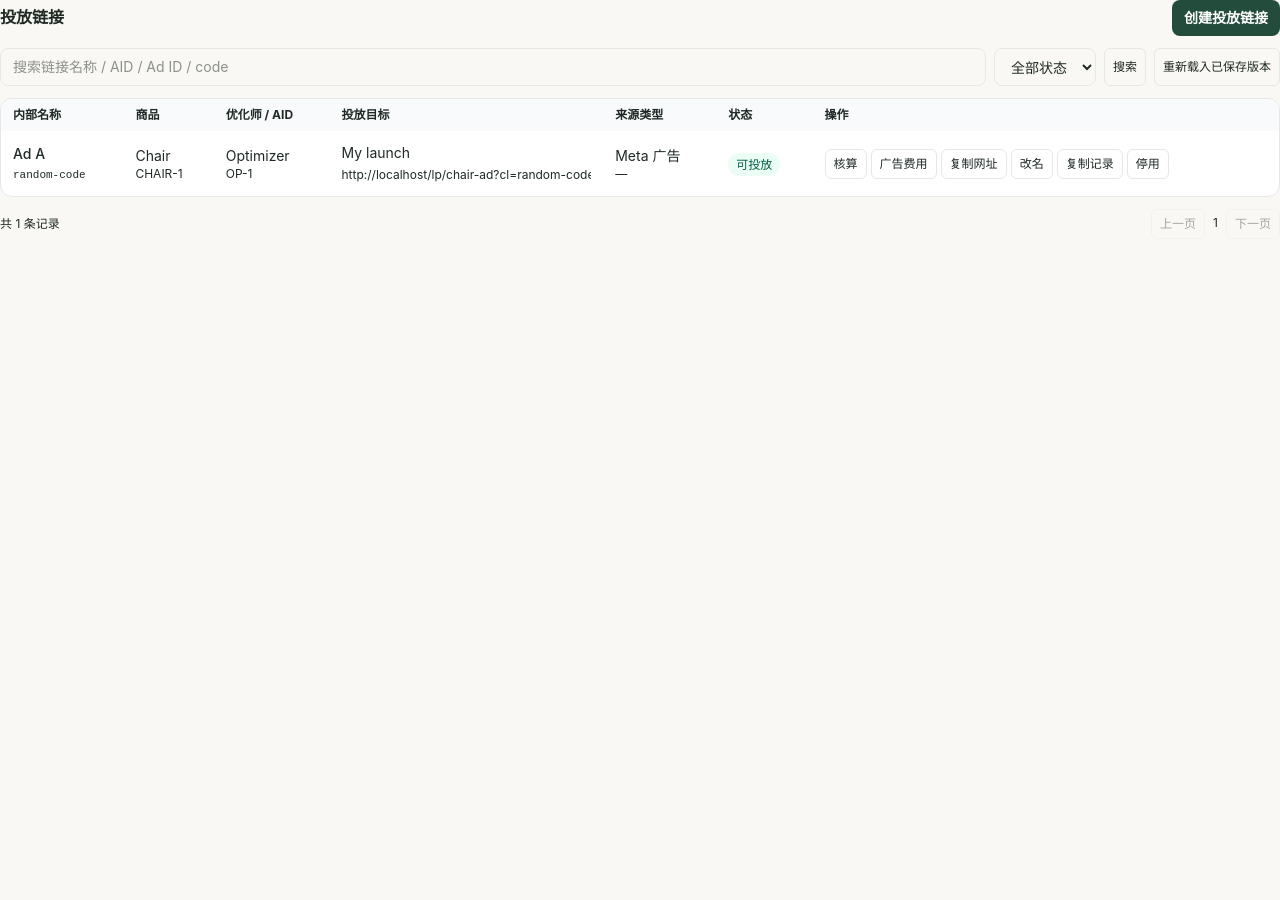
persisted campaign links › retains rename input on conflict and only permits name editing
Expected: the text "Ad A" is shown, [13, 145, 45, 162]
Click the button "改名": coordinates (1032, 164) [1011, 148, 1053, 178]
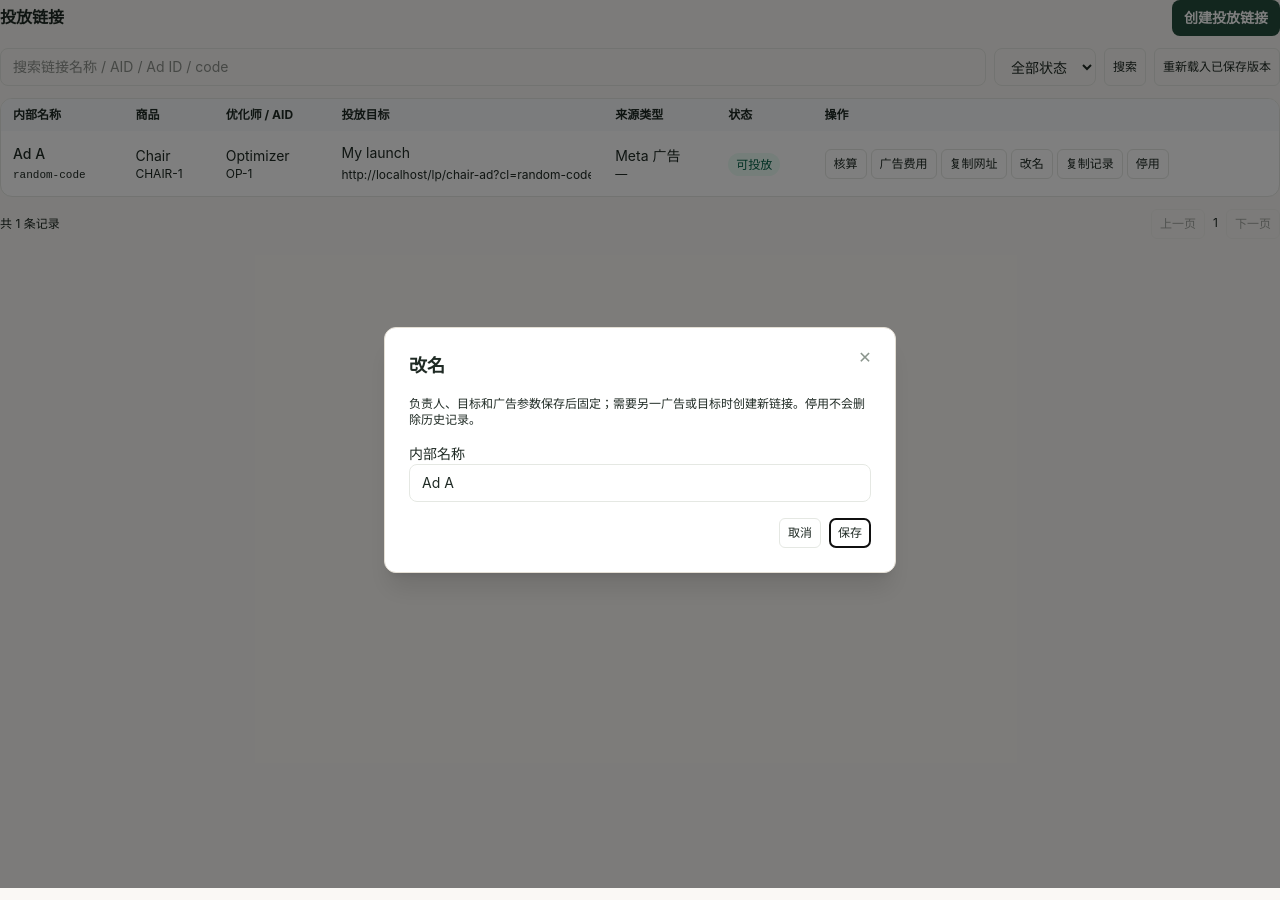
Replace the text in the field labelled "内部名称" with "Unsaved name": coordinates (640, 483) [409, 464, 871, 502]
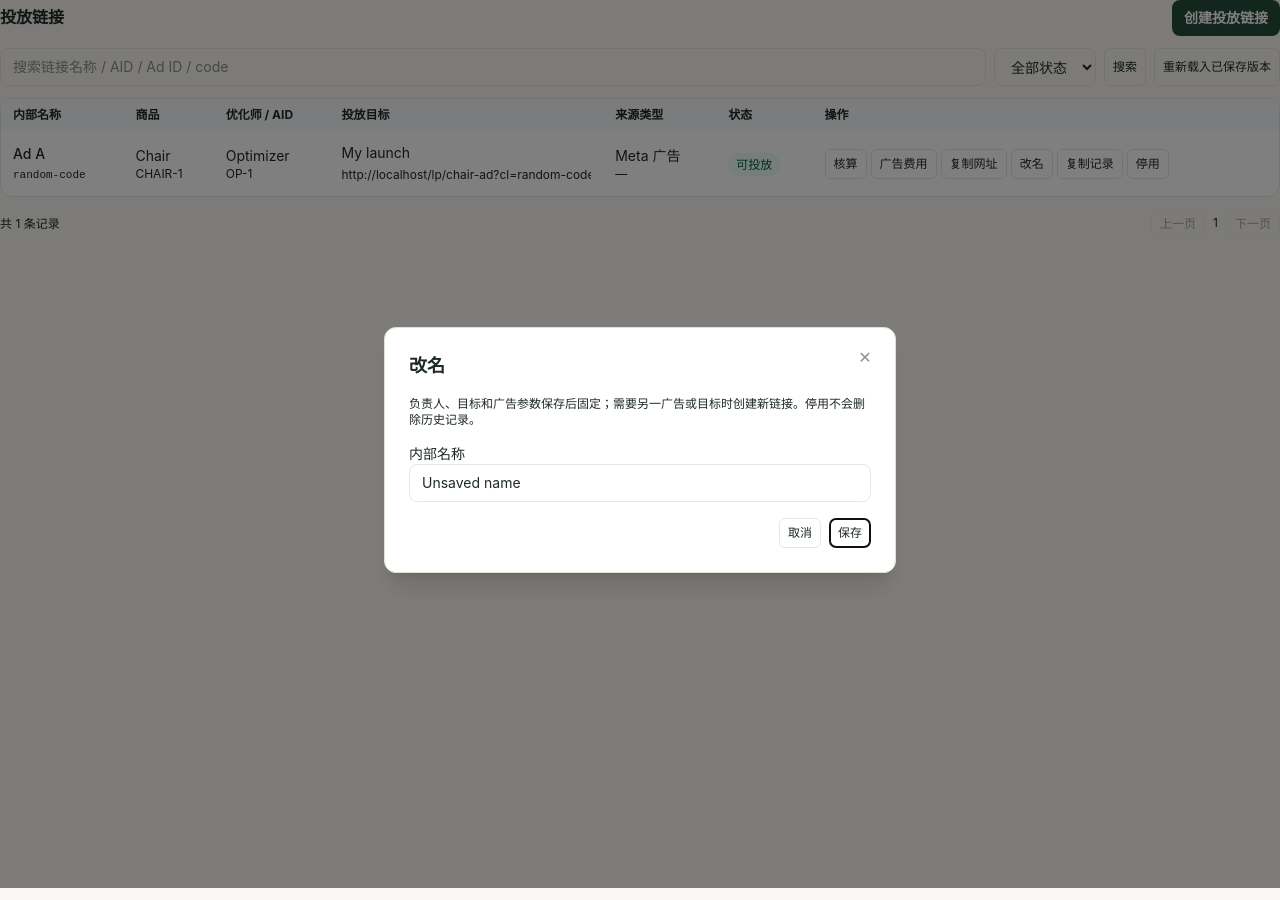
Click the button "保存": coordinates (850, 533) [829, 518, 871, 548]
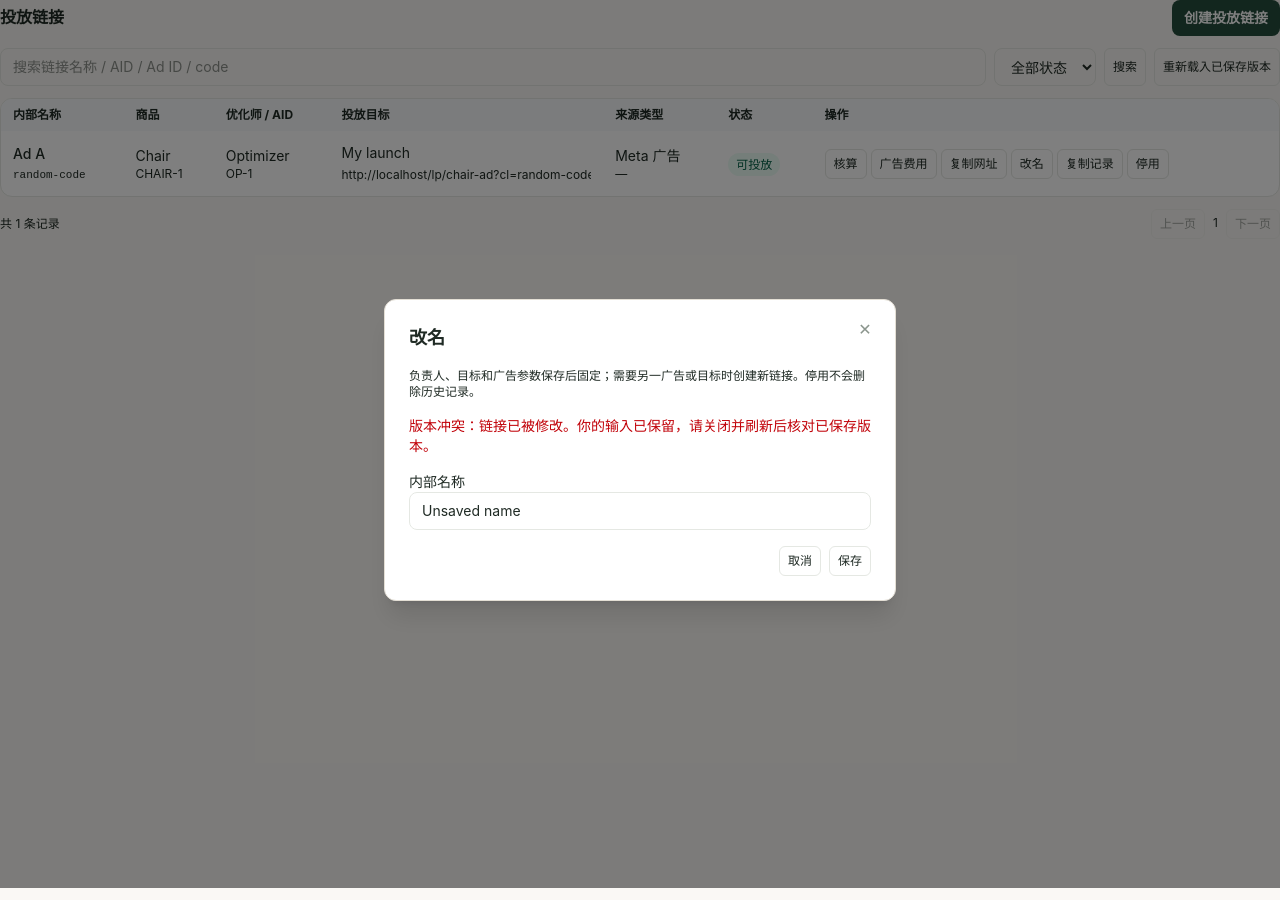
Expected: the text "版本冲突：链接已被修改。你的输入已保留，请关闭并刷新后核对已保存版本。" is shown, [409, 416, 871, 456]
